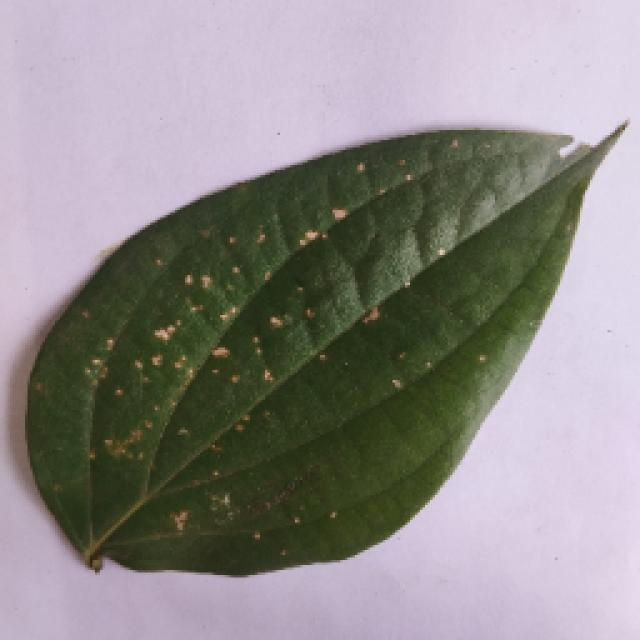pollu-disease: (18, 128, 622, 590)
